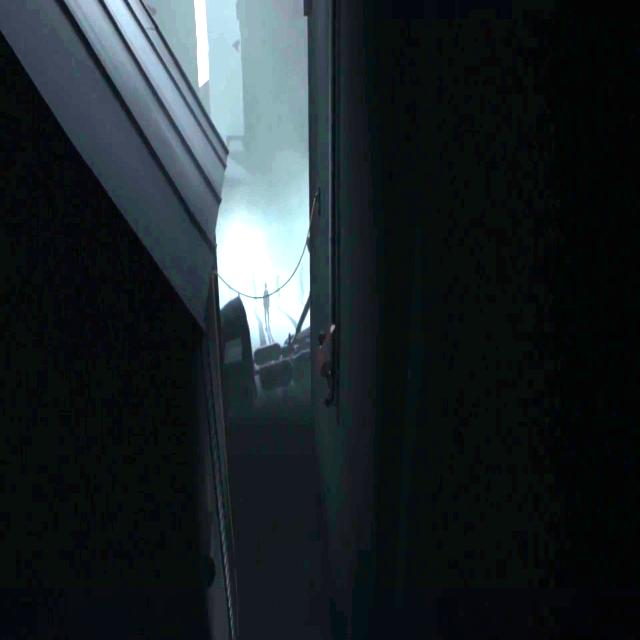boy: (318, 316, 338, 406)
zombie: (263, 282, 270, 331), (251, 270, 258, 310), (298, 266, 304, 305), (276, 274, 281, 307), (227, 279, 233, 299)
